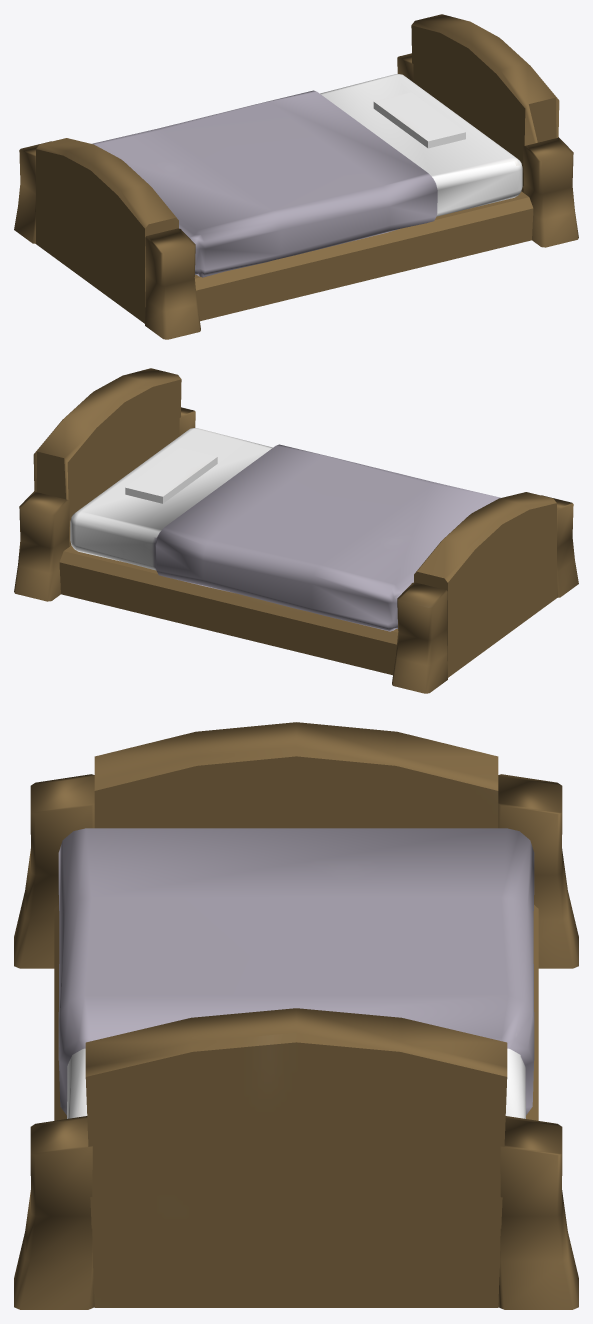
Rendered from Bed.gltf.
3 renders of one model, top to bottom at view 1: azimuth 30°, elevation 25°; view 2: azimuth 150°, elevation 25°; view 3: azimuth 270°, elevation 25°, orthographic. The views are drawn at different scales.
Visible parts, largest first — view 1: Bed; view 2: Bed; view 3: Bed.
Boxes of the visible parts, x1,y1,x2,y2 form: Bed: [14, 14, 578, 339]; Bed: [14, 368, 578, 693]; Bed: [14, 722, 578, 1309].
Size of the model in its own units: 2.2 by 0.7446 by 1.4.
Materials: 1 (1 with a texture image).
